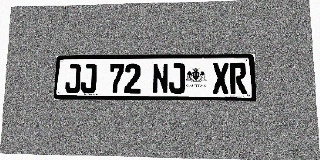2: (124, 63, 141, 94)
7: (108, 63, 124, 94)
J: (169, 63, 185, 94), (64, 64, 81, 93), (80, 64, 97, 93)
N: (152, 63, 168, 94)
R: (229, 63, 247, 94)
X: (212, 63, 229, 94)
